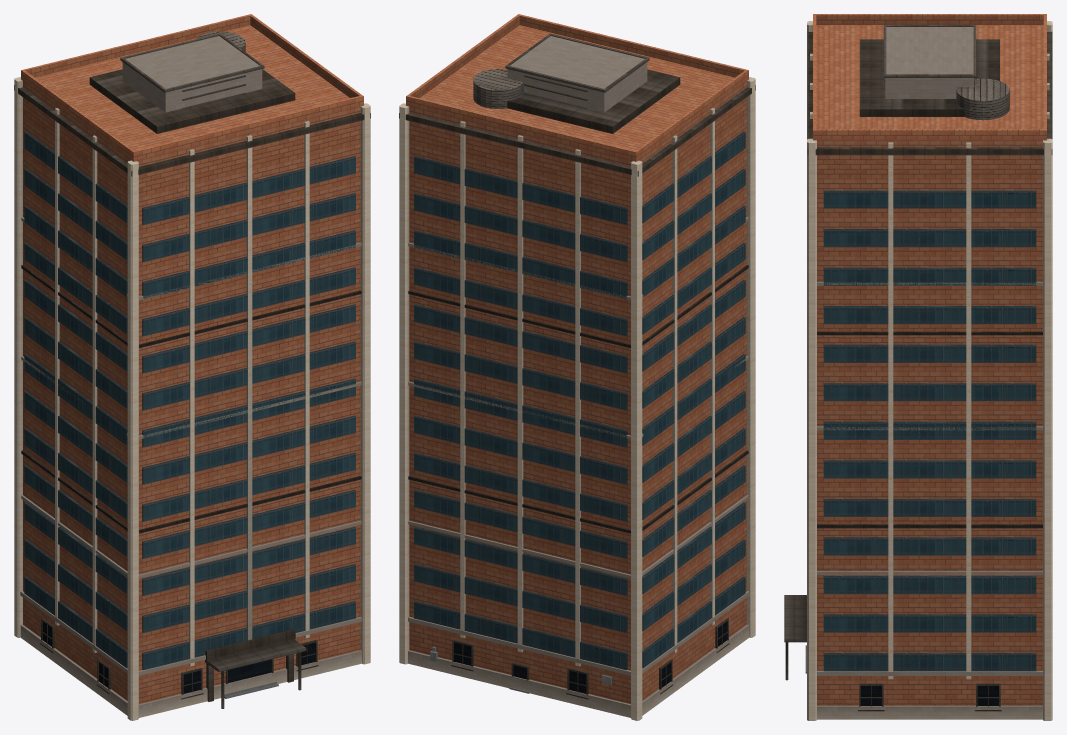
File: michigan-avenue-deco_lod0.gltf
3 views of the same model, side by side, from view 1: azimuth 30°, elevation 25°; view 2: azimuth 150°, elevation 25°; view 3: azimuth 270°, elevation 25° (orthographic). The views are drawn at different scales.
Visible parts, largest first — view 1: michigan-avenue-deco_main, michigan-avenue-deco_fen_07-glass-curtain-blue_0, michigan-avenue-deco__v4_stone_detail, michigan-avenue-deco__crown_step_1, michigan-avenue-deco__v4_metal_detail, michigan-avenue-deco__cornice, michigan-avenue-deco__parapet_front, michigan-avenue-deco__parapet_back, michigan-avenue-deco_fen_07-glass-curtain-blue_2_t, michigan-avenue-deco__string_course_2, michigan-avenue-deco__string_course_1, michigan-avenue-deco__parapet_left (+3 smaller); view 2: michigan-avenue-deco_main, michigan-avenue-deco_fen_07-glass-curtain-blue_0, michigan-avenue-deco__v4_stone_detail, michigan-avenue-deco__crown_step_1, michigan-avenue-deco__cornice, michigan-avenue-deco__parapet_back, michigan-avenue-deco__parapet_front, michigan-avenue-deco__water_tank, michigan-avenue-deco__v4_metal_detail, michigan-avenue-deco__string_course_2, michigan-avenue-deco__string_course_1, michigan-avenue-deco__parapet_left (+3 smaller); view 3: michigan-avenue-deco_main, michigan-avenue-deco_fen_07-glass-curtain-blue_0, michigan-avenue-deco__v4_stone_detail, michigan-avenue-deco__crown_step_1, michigan-avenue-deco__cornice, michigan-avenue-deco__parapet_right, michigan-avenue-deco__parapet_left, michigan-avenue-deco__v4_metal_detail, michigan-avenue-deco__water_tank, michigan-avenue-deco__string_course_1, michigan-avenue-deco__string_course_2, michigan-avenue-deco_fen_07-glass-curtain-blue_2_t (+3 smaller).
Boxes of the visible parts, left/top/right/bottom form: michigan-avenue-deco_main: left=23, top=25, right=360, bottom=703; michigan-avenue-deco_fen_07-glass-curtain-blue_0: left=24, top=131, right=355, bottom=670; michigan-avenue-deco__v4_stone_detail: left=14, top=36, right=370, bottom=720; michigan-avenue-deco__crown_step_1: left=89, top=69, right=295, bottom=133; michigan-avenue-deco__v4_metal_detail: left=120, top=33, right=306, bottom=708; michigan-avenue-deco__cornice: left=14, top=85, right=370, bottom=176; michigan-avenue-deco__parapet_front: left=132, top=95, right=363, bottom=161; michigan-avenue-deco__parapet_back: left=21, top=14, right=252, bottom=80; michigan-avenue-deco_fen_07-glass-curtain-blue_2_t: left=42, top=621, right=315, bottom=693; michigan-avenue-deco__string_course_2: left=21, top=265, right=361, bottom=348; michigan-avenue-deco__string_course_1: left=21, top=450, right=361, bottom=533; michigan-avenue-deco__parapet_left: left=22, top=71, right=134, bottom=160; michigan-avenue-deco_main: left=409, top=25, right=746, bottom=703; michigan-avenue-deco_fen_07-glass-curtain-blue_0: left=414, top=131, right=745, bottom=670; michigan-avenue-deco__v4_stone_detail: left=399, top=36, right=755, bottom=720; michigan-avenue-deco__crown_step_1: left=507, top=69, right=680, bottom=133; michigan-avenue-deco__cornice: left=399, top=85, right=755, bottom=176; michigan-avenue-deco__parapet_back: left=406, top=95, right=637, bottom=161; michigan-avenue-deco__parapet_front: left=517, top=14, right=748, bottom=80; michigan-avenue-deco__water_tank: left=473, top=69, right=523, bottom=108; michigan-avenue-deco__v4_metal_detail: left=505, top=33, right=649, bottom=108; michigan-avenue-deco__string_course_2: left=408, top=265, right=748, bottom=348; michigan-avenue-deco__string_course_1: left=408, top=450, right=748, bottom=533; michigan-avenue-deco__parapet_left: left=635, top=71, right=747, bottom=160; michigan-avenue-deco_main: left=816, top=25, right=1043, bottom=705; michigan-avenue-deco_fen_07-glass-curtain-blue_0: left=823, top=190, right=1036, bottom=671; michigan-avenue-deco__v4_stone_detail: left=807, top=21, right=1052, bottom=720; michigan-avenue-deco__crown_step_1: left=859, top=39, right=999, bottom=116; michigan-avenue-deco__cornice: left=807, top=31, right=1052, bottom=155; michigan-avenue-deco__parapet_right: left=816, top=129, right=1043, bottom=140; michigan-avenue-deco__parapet_left: left=816, top=14, right=1043, bottom=24; michigan-avenue-deco__v4_metal_detail: left=784, top=25, right=976, bottom=680; michigan-avenue-deco__water_tank: left=956, top=78, right=1009, bottom=120; michigan-avenue-deco__string_course_1: left=817, top=524, right=1042, bottom=528; michigan-avenue-deco__string_course_2: left=817, top=331, right=1042, bottom=335; michigan-avenue-deco_fen_07-glass-curtain-blue_2_t: left=860, top=686, right=998, bottom=705.
Size of the model in its own units: 27.1 by 63.3 by 25.25.
